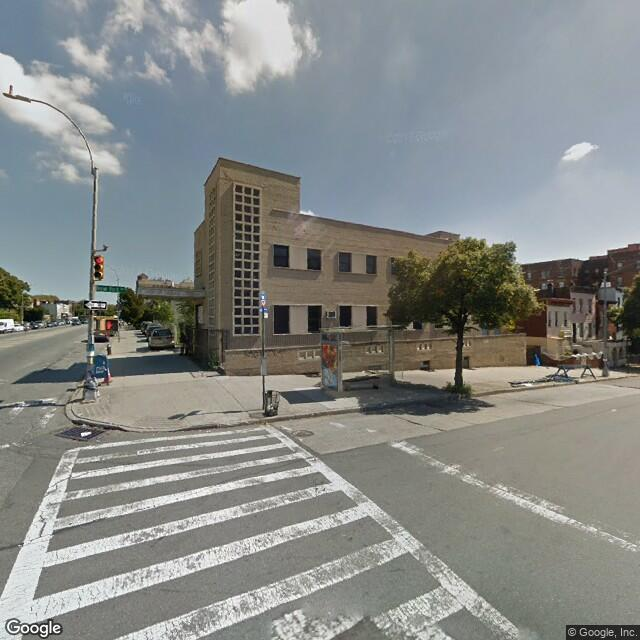litter: (77, 429, 94, 438)
